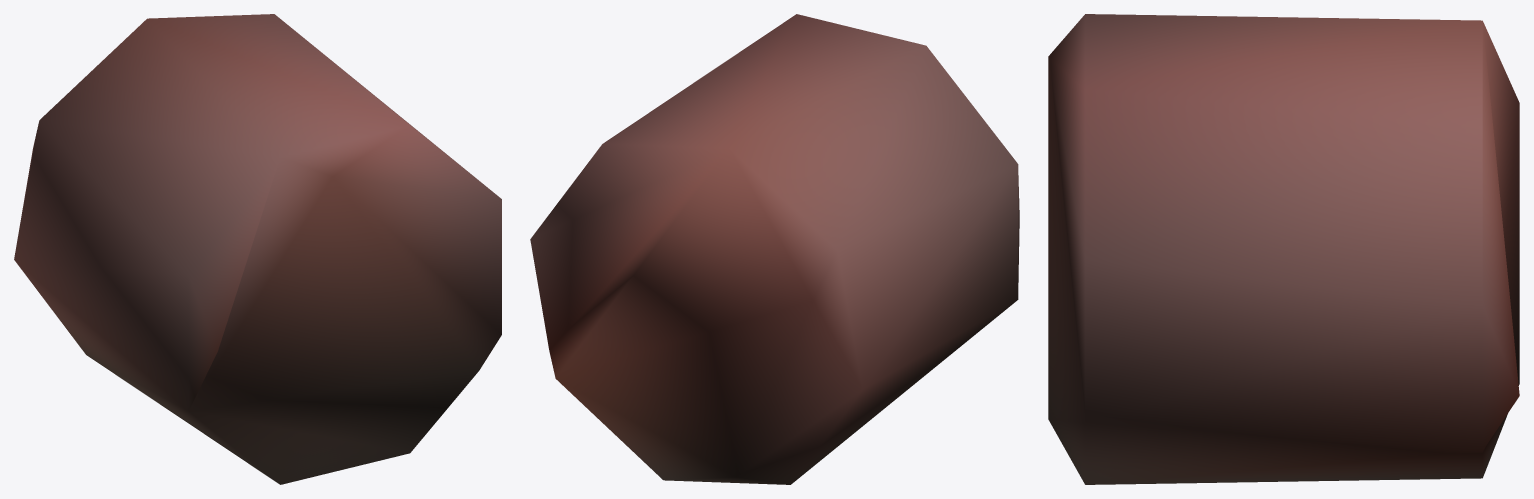
The model's file is solar_actuator_lod5.glb.
The picture shows the model from 3 angles, left to right: view 1: azimuth 30°, elevation 25°; view 2: azimuth 150°, elevation 25°; view 3: azimuth 270°, elevation 25°; orthographic projection. The views are drawn at different scales.
Parts seen in each view (by area): view 1: solar_actuator; view 2: solar_actuator; view 3: solar_actuator.
Boxes of the visible parts, x1,y1,x2,y2 form: solar_actuator: (14,14,501,484); solar_actuator: (530,14,1019,484); solar_actuator: (1048,14,1519,484).
Bounding box in the file's own units: 0.3923 × 0.3923 × 0.4.
